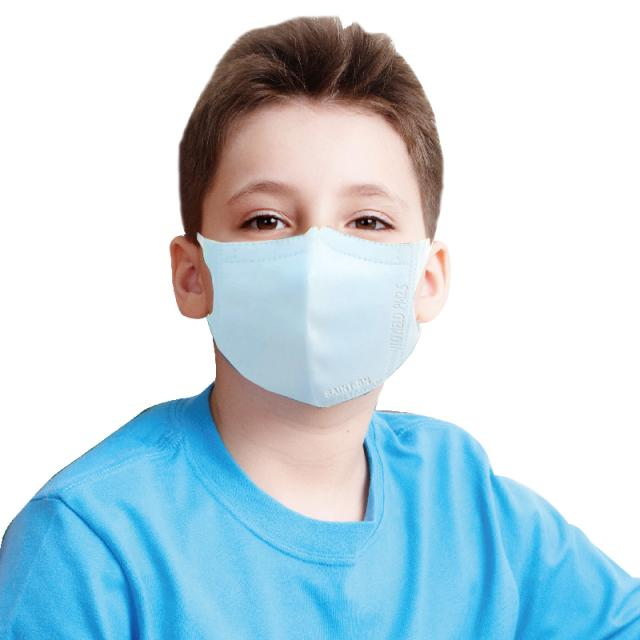mask: (208, 98, 422, 403)
